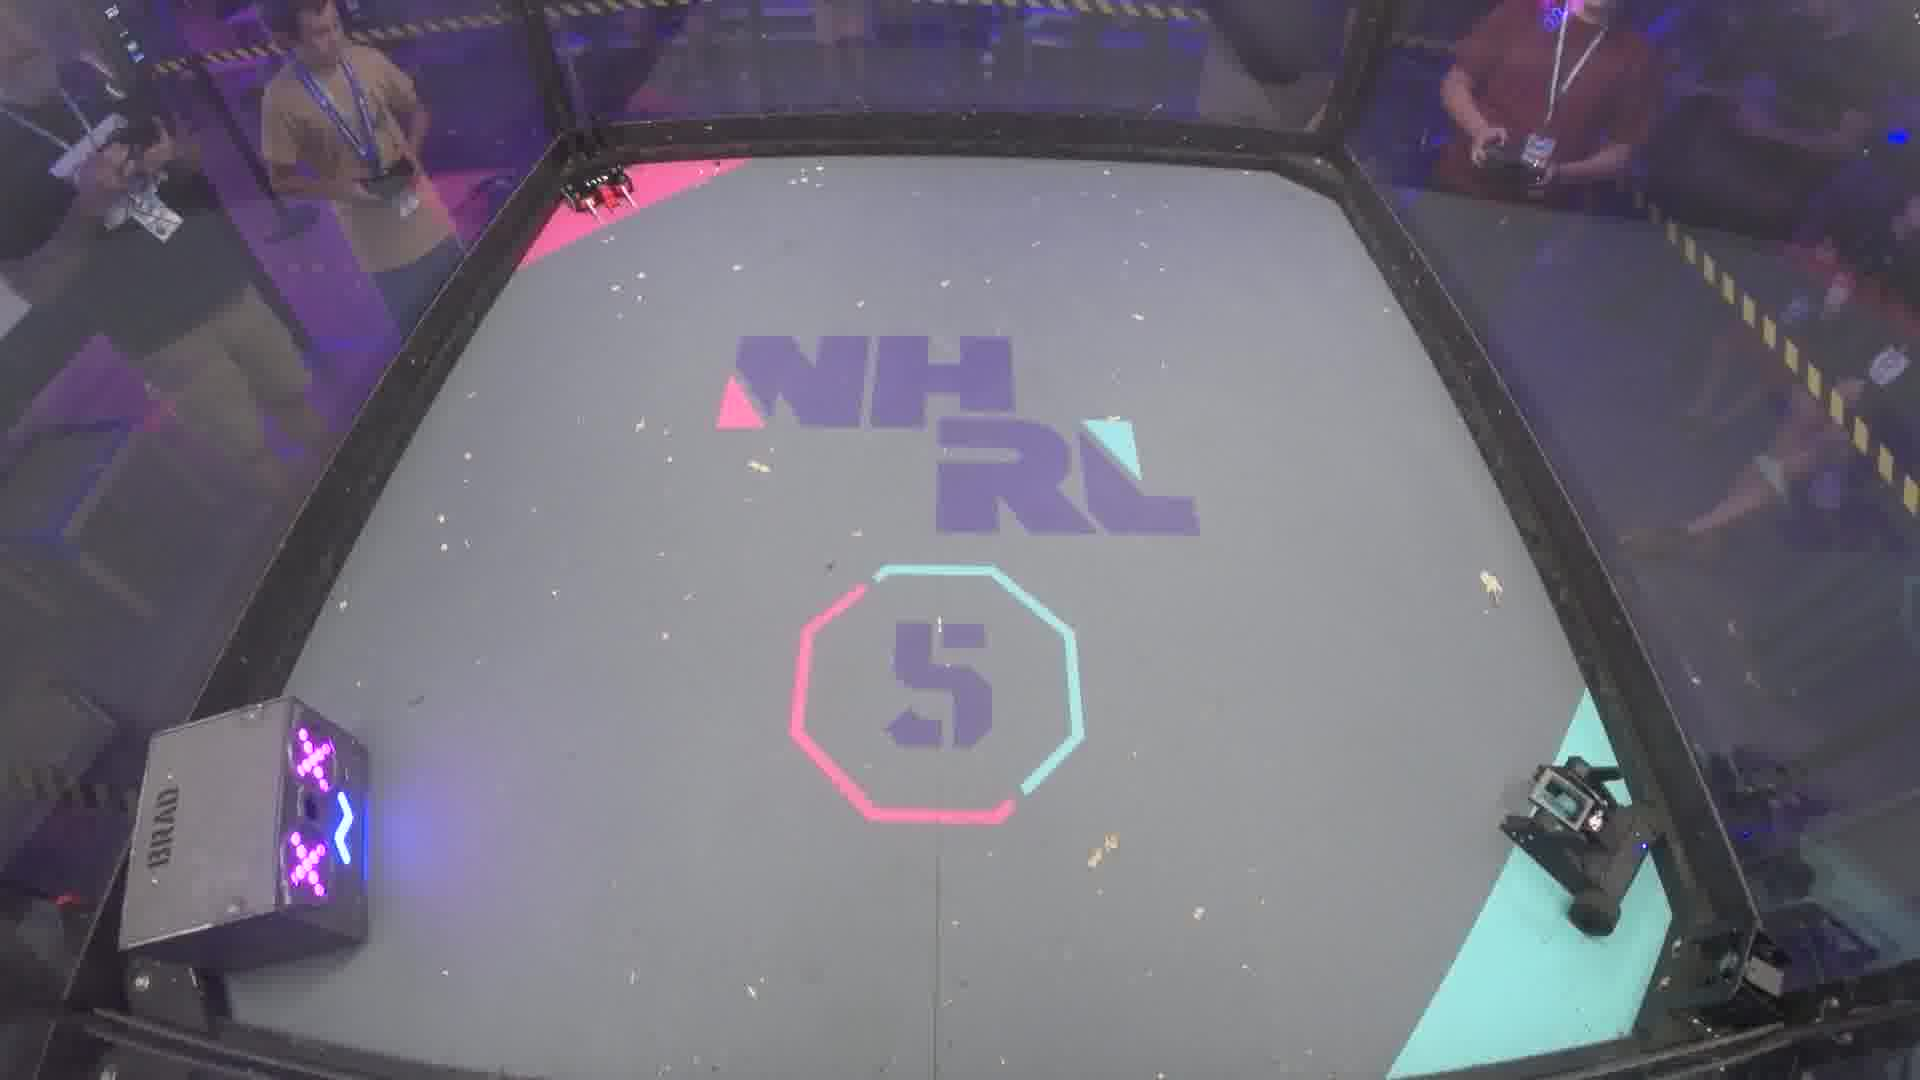combatbot: (1495, 753, 1650, 945), (568, 165, 642, 218)
housebot: (119, 690, 381, 967)
